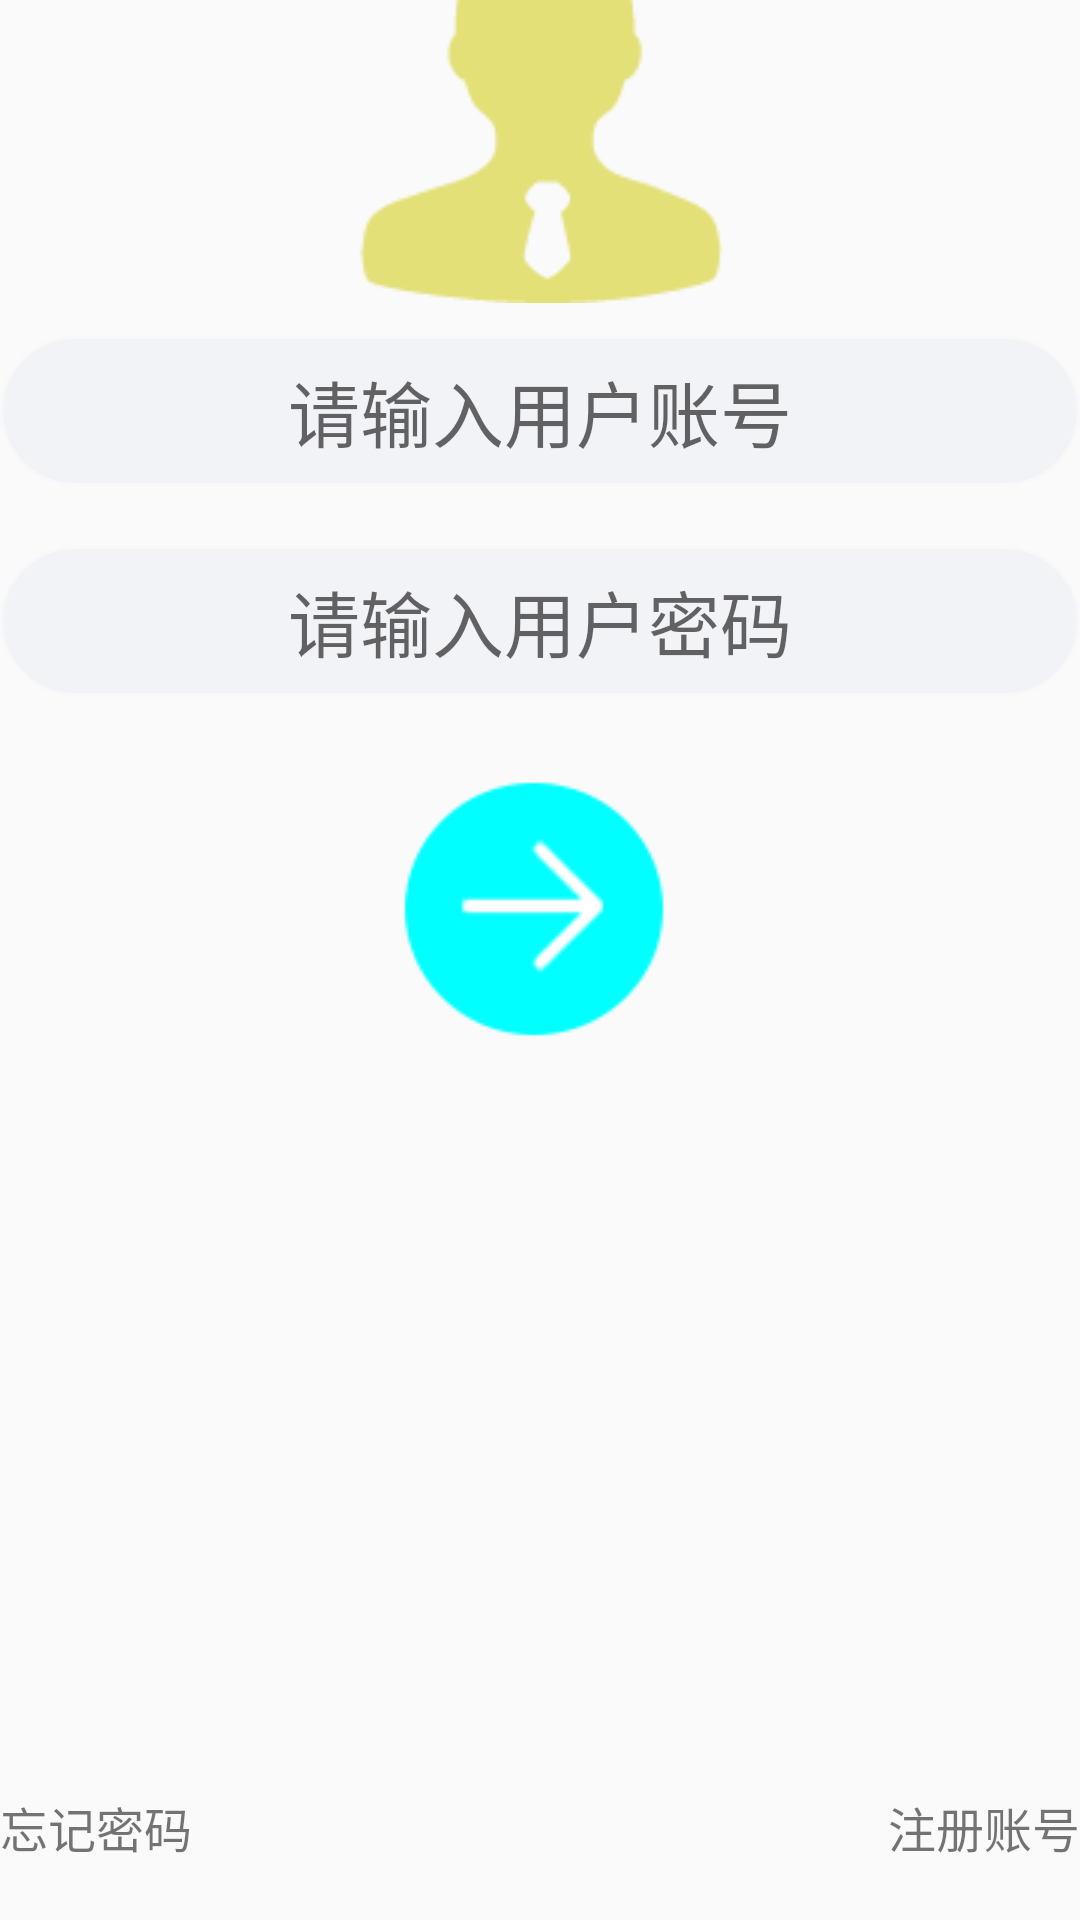

Locate icon controls on the screen. Image size 1080 x 1920, boxes as (x1, y1, x2, y2).
arrows: (404, 782, 664, 1036)
